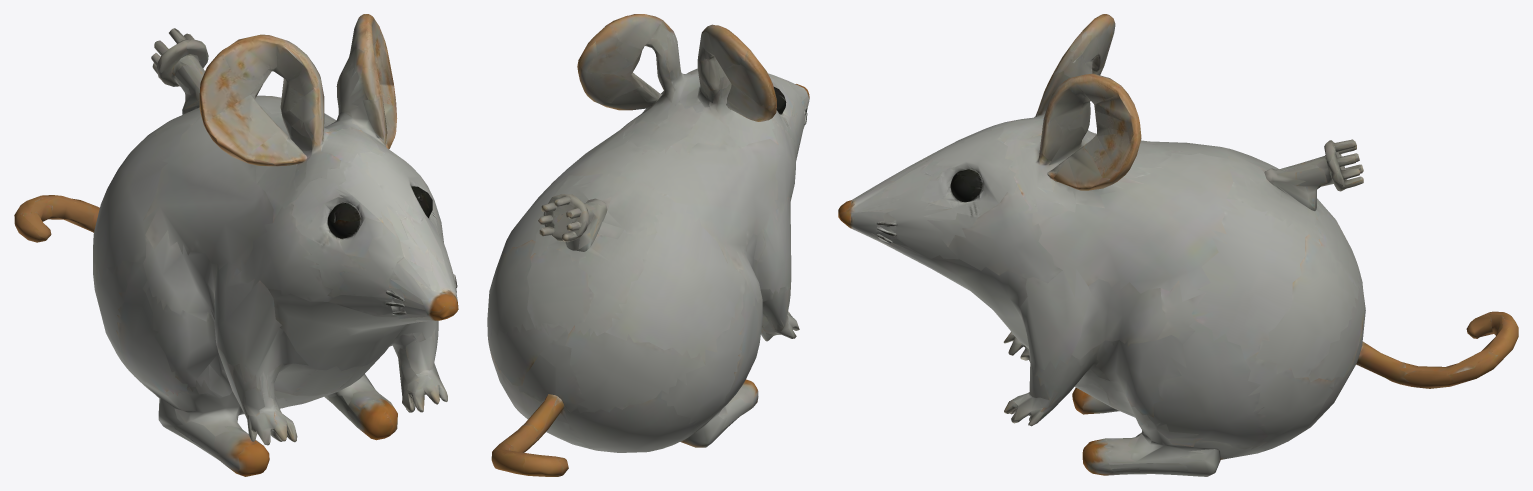
The model's file is mouse.glb.
3 renders of one model, left to right at view 1: azimuth 30°, elevation 25°; view 2: azimuth 150°, elevation 25°; view 3: azimuth 270°, elevation 25°, orthographic. The views are drawn at different scales.
Bounding box in the file's own units: 0.7814 × 1.23 × 1.9.
1 material, 1 textured.
